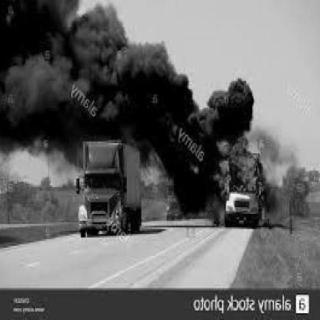Smoke: (3, 0, 259, 138), (158, 140, 235, 217)
